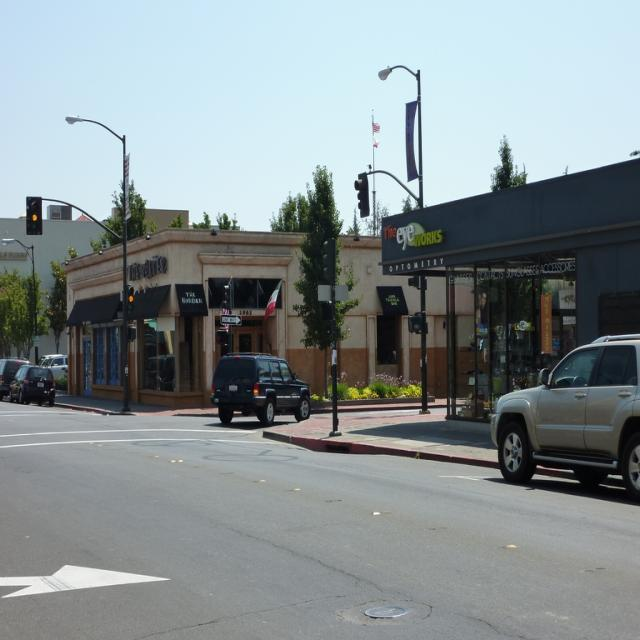traffic light: (29, 198, 41, 232), (125, 286, 134, 304)
